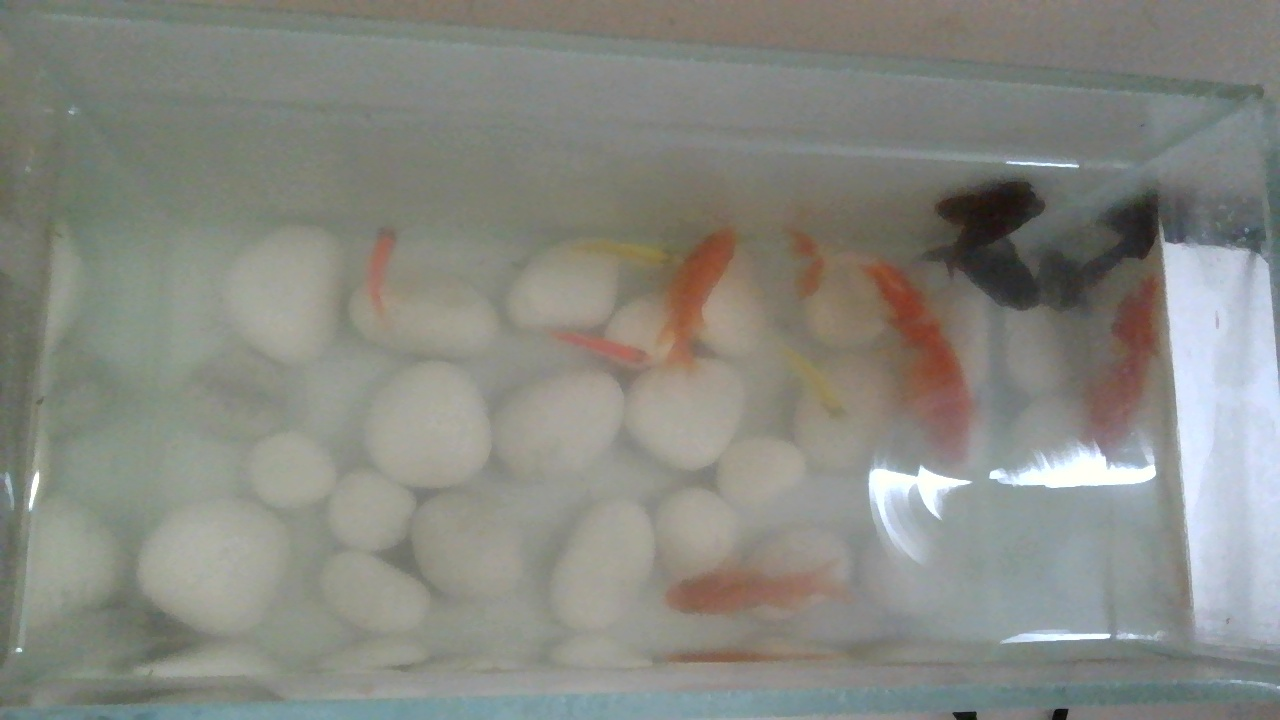fish: (653, 517, 851, 615)
